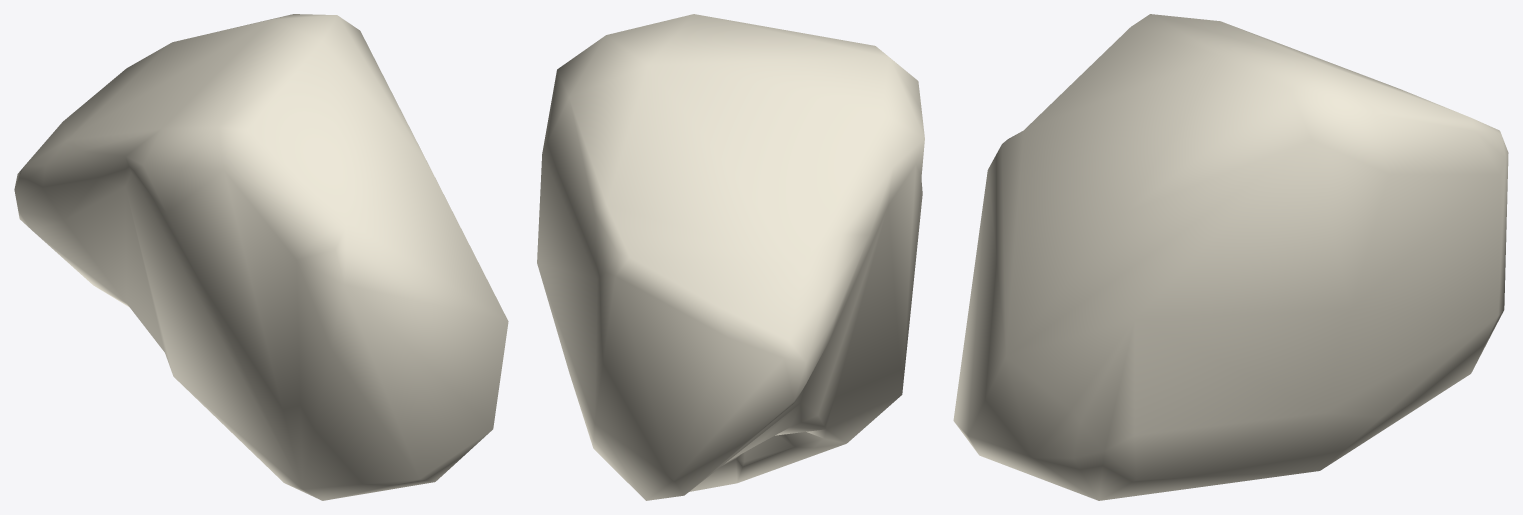
The picture shows the model from 3 angles, left to right: view 1: azimuth 30°, elevation 25°; view 2: azimuth 150°, elevation 25°; view 3: azimuth 270°, elevation 25°; orthographic projection. The views are drawn at different scales.
Visible parts, largest first — view 1: ZA_4ab9be69a1e5847f; view 2: ZA_4ab9be69a1e5847f; view 3: ZA_4ab9be69a1e5847f.
Boxes of the visible parts, box(x1,y1,x2,y2) form: ZA_4ab9be69a1e5847f: box(14, 14, 508, 500); ZA_4ab9be69a1e5847f: box(537, 14, 924, 500); ZA_4ab9be69a1e5847f: box(953, 14, 1508, 500).
Bounding box in the file's own units: 0.0111 × 0.0143 × 0.0159.
